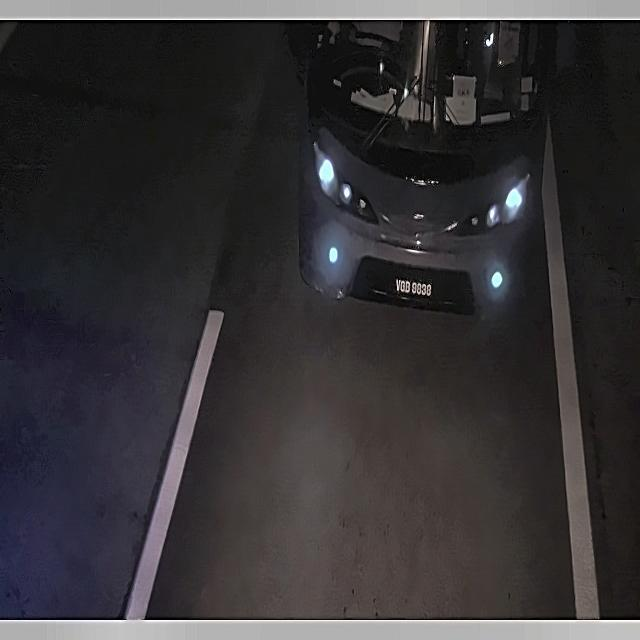car: (388, 272, 437, 306)
